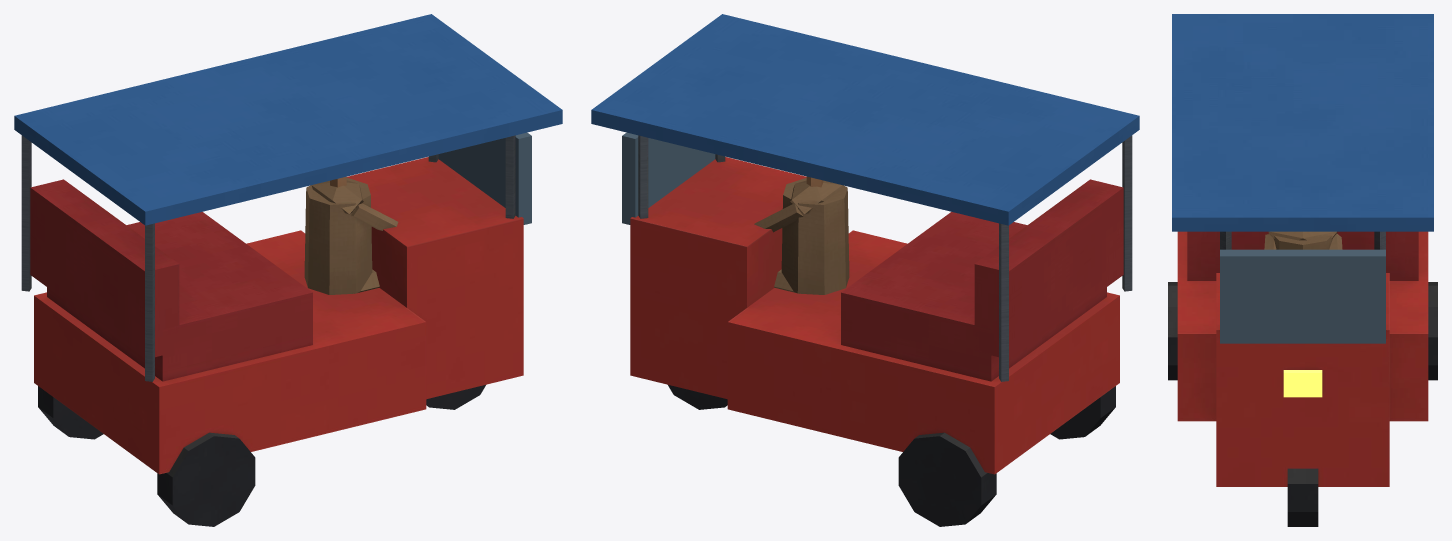
Rendered from tuktuk_tex.glb.
3 views of the same model, side by side, from view 1: azimuth 30°, elevation 25°; view 2: azimuth 150°, elevation 25°; view 3: azimuth 270°, elevation 25° (orthographic).
Visible parts, largest first — view 1: tuktuk; view 2: tuktuk; view 3: tuktuk.
Part boxes in pixels (x1=…): tuktuk: x1=14, y1=14, x2=562, y2=526; tuktuk: x1=591, y1=14, x2=1139, y2=526; tuktuk: x1=1168, y1=14, x2=1437, y2=526.
Size of the model in its own units: 2.5 by 1.89 by 1.4.
13 materials, 8 textured.
